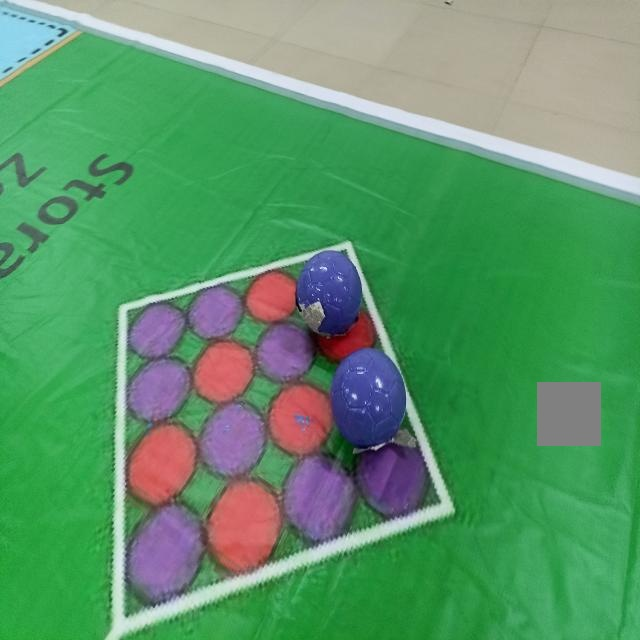purple_ball: (330, 347, 410, 454), (295, 247, 364, 341)
